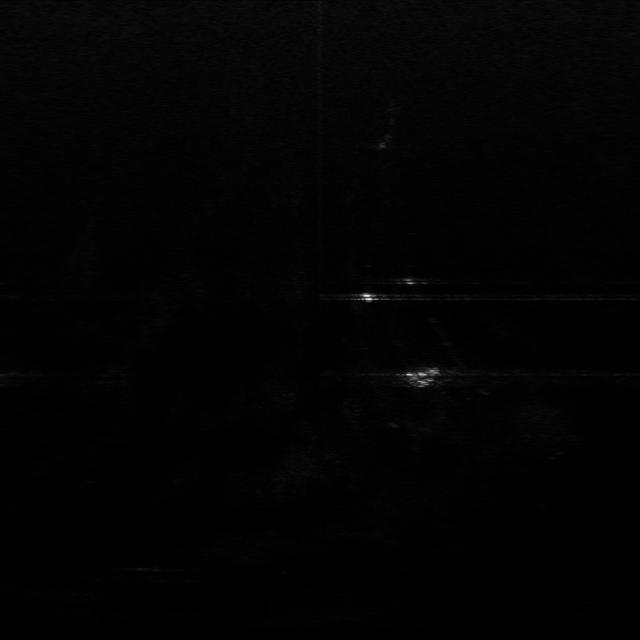rov: (402, 366, 447, 388)
